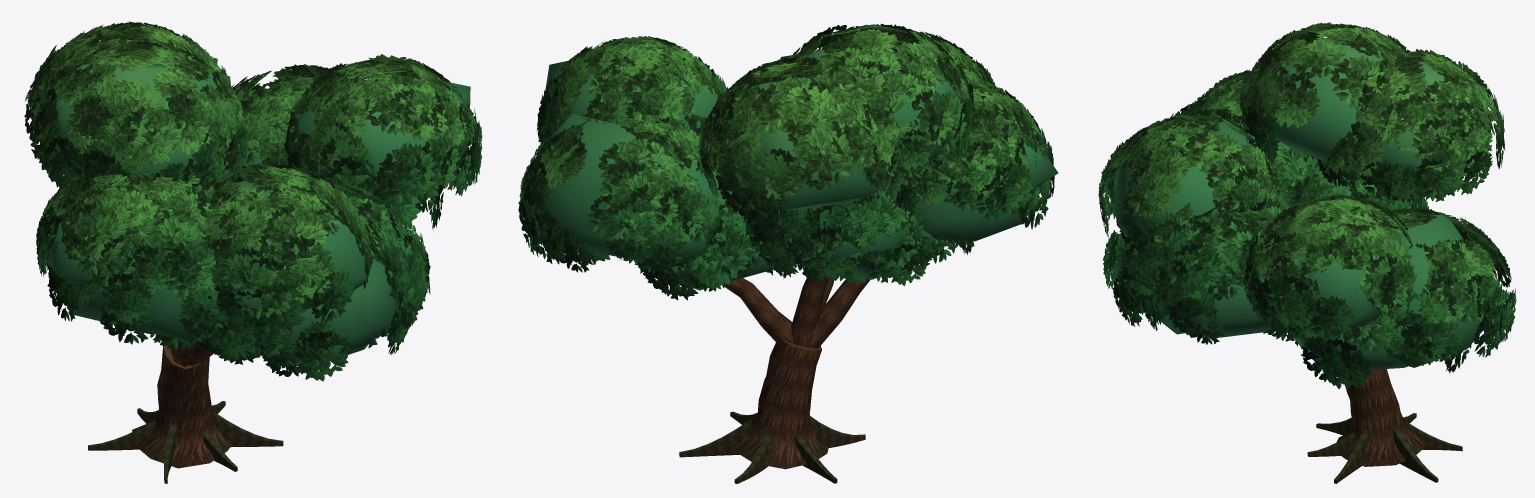
File: old_tree_3.gltf
3 renders of one model, left to right at view 1: azimuth 30°, elevation 25°; view 2: azimuth 150°, elevation 25°; view 3: azimuth 270°, elevation 25°, orthographic. The views are drawn at different scales.
Visible parts, largest first — view 1: LeafCards, LeafMass, Bark; view 2: LeafCards, LeafMass, Bark; view 3: LeafCards, LeafMass, Bark.
Boxes of the visible parts, bbox=[...] form: LeafCards: bbox=[24, 21, 482, 381]; LeafMass: bbox=[40, 38, 470, 366]; Bark: bbox=[88, 340, 283, 483]; LeafCards: bbox=[518, 24, 1054, 300]; LeafMass: bbox=[539, 49, 1058, 290]; Bark: bbox=[679, 268, 869, 483]; LeafCards: bbox=[1098, 22, 1516, 389]; LeafMass: bbox=[1112, 42, 1486, 369]; Bark: bbox=[1307, 369, 1462, 483].
Size of what is drawn, in the model's own units: 14.69 by 12.94 by 12.8.
Materials: 3 (2 with a texture image).
